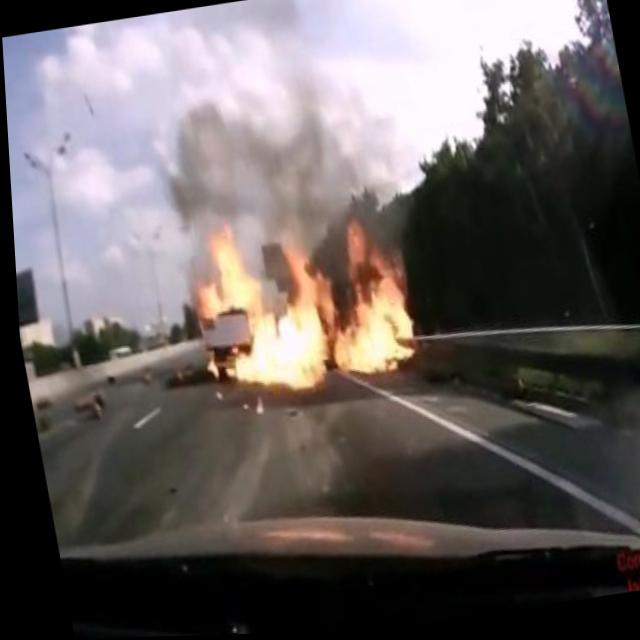fire: (165, 182, 426, 416)
